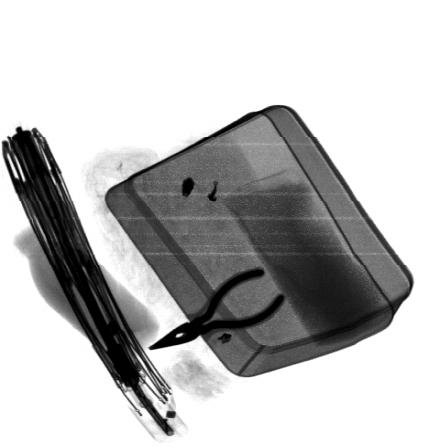Pliers: (148, 266, 287, 351)
